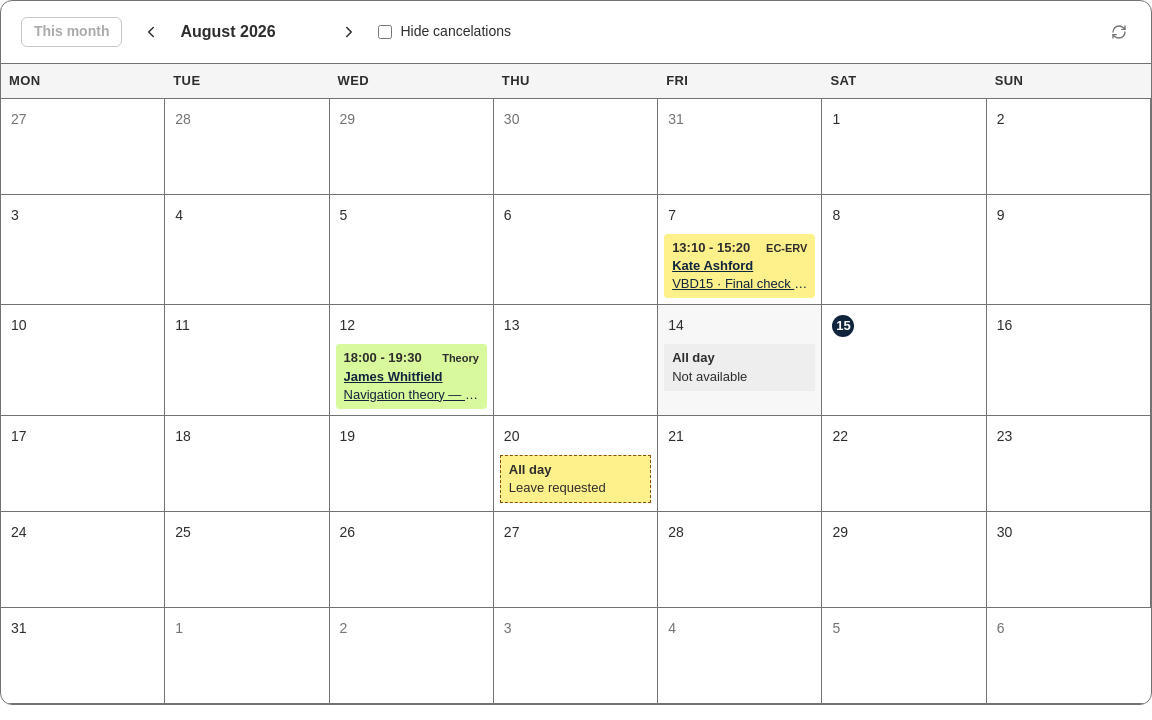
it: navigates between months and back with the This month button
Expected: the text "August 2026" is shown, [180,23,276,40]
Click the button named "Next month". click: (349, 32)
box: [336,19,362,45]
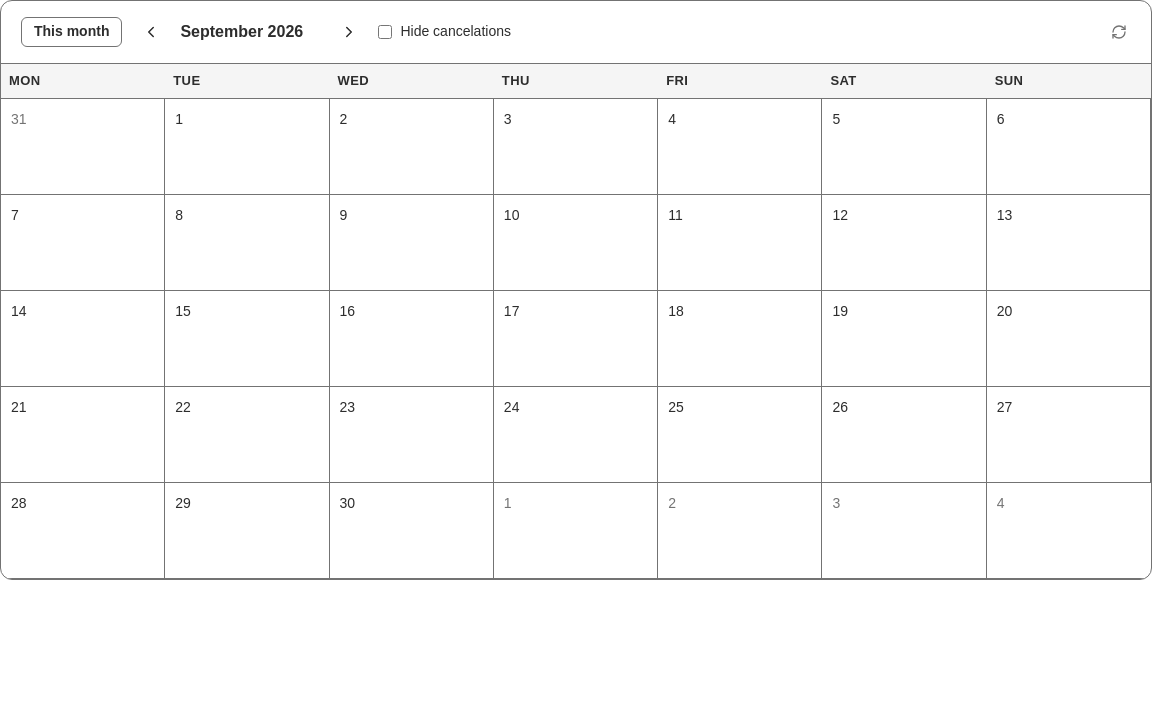
Now the text "September 2026" is shown, box [180,21,320,43]
Click the button named "Previous month". click: (151, 32)
box: [138,19,164,45]
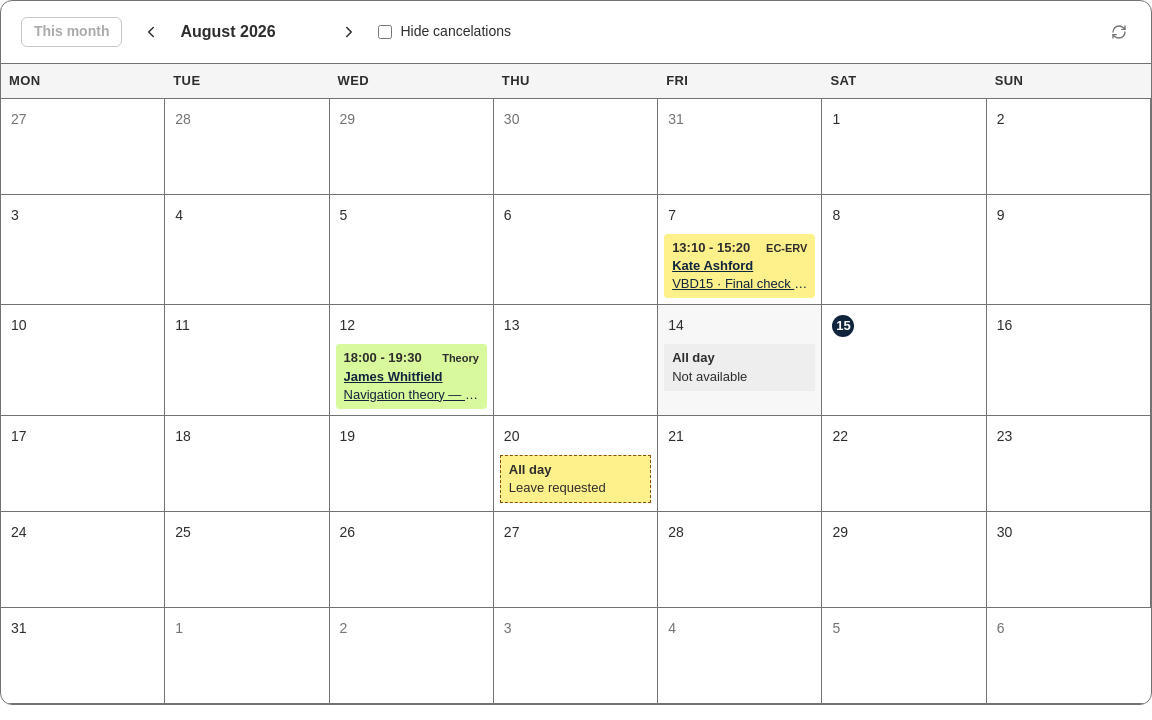
Now the text "August 2026" is shown, box [180,23,276,40]
Click the button named "Next month". click: (349, 32)
box: [336,19,362,45]
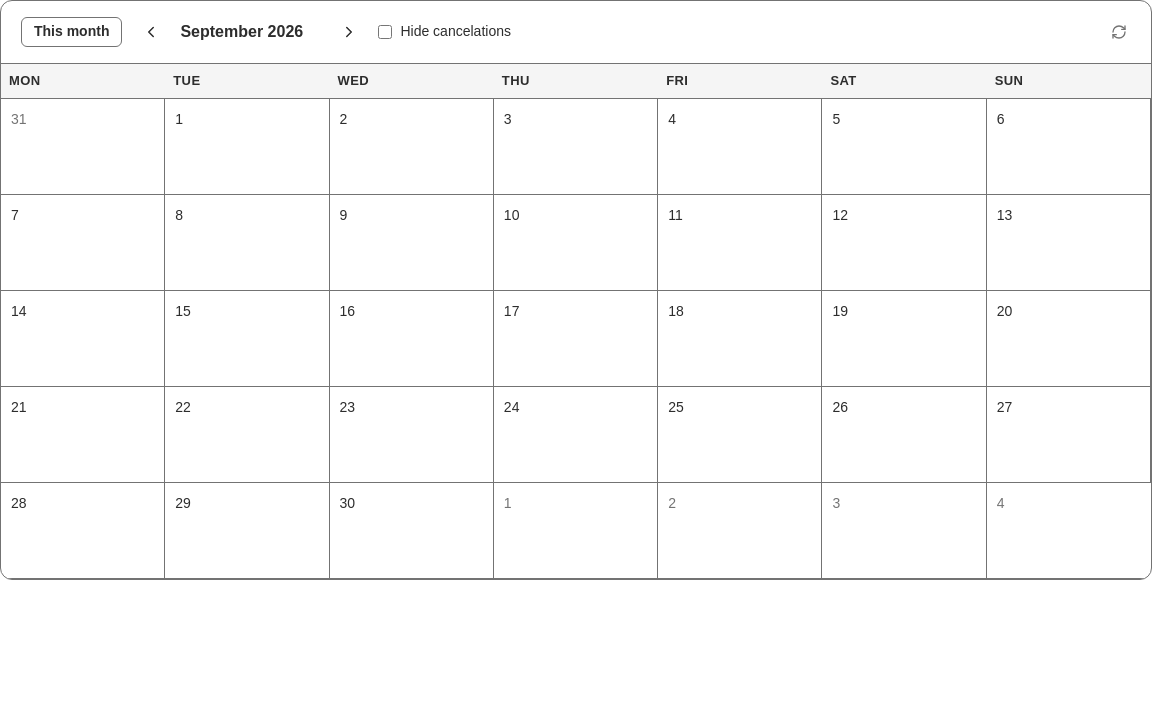
Click the button "This month". click: (72, 32)
box: [21,17,122,47]
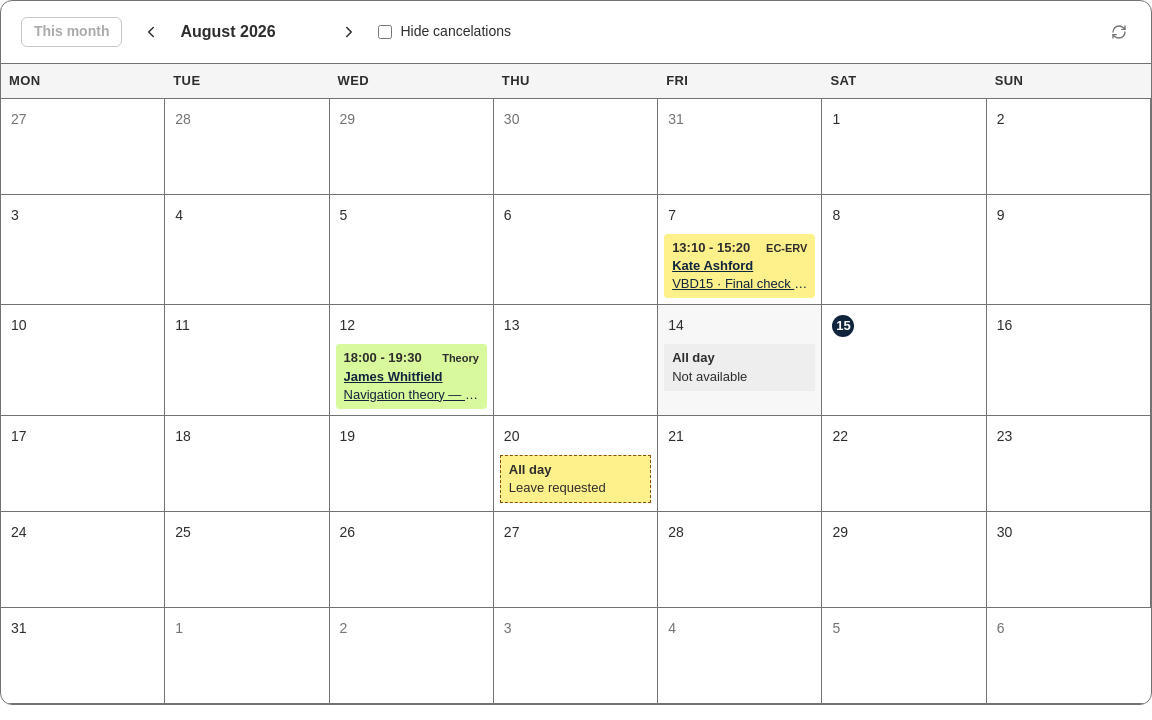
Now the text "August 2026" is shown, box [180,23,276,40]
